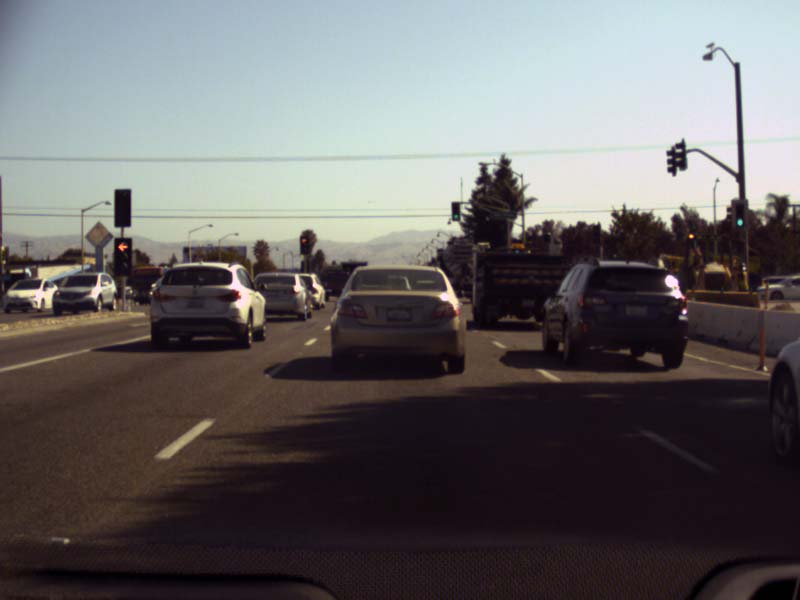Green: (732, 202, 747, 228), (451, 201, 460, 221)
Red: (113, 237, 132, 276), (300, 236, 308, 253)
Yellow: (687, 227, 695, 243)
